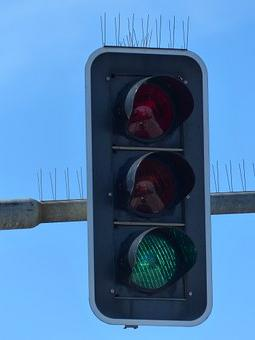trafic: (92, 48, 213, 321)
